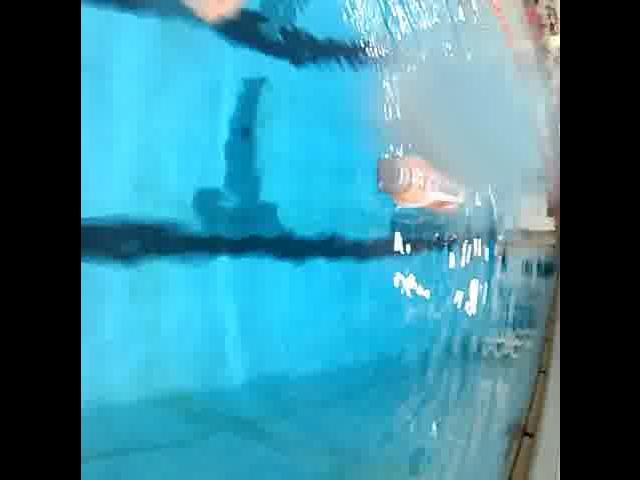Bottle: (370, 147, 466, 214)
